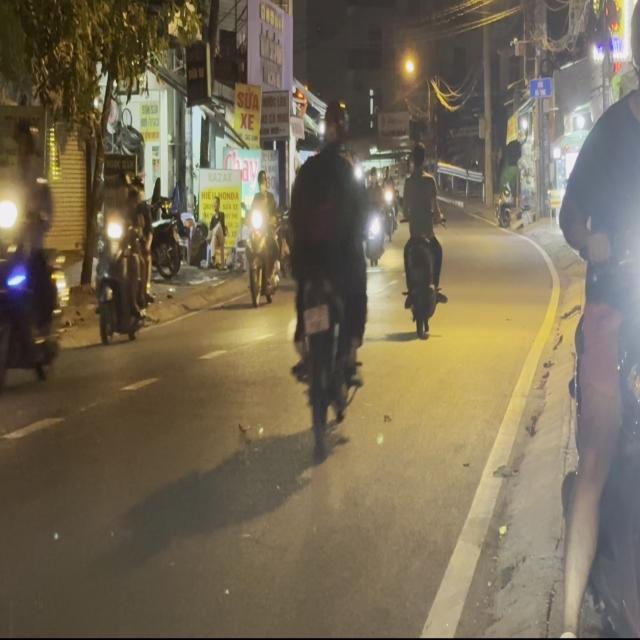helmet: (12, 117, 44, 179), (322, 100, 350, 151)
licenseplate: (282, 96, 372, 454), (0, 109, 66, 405)
